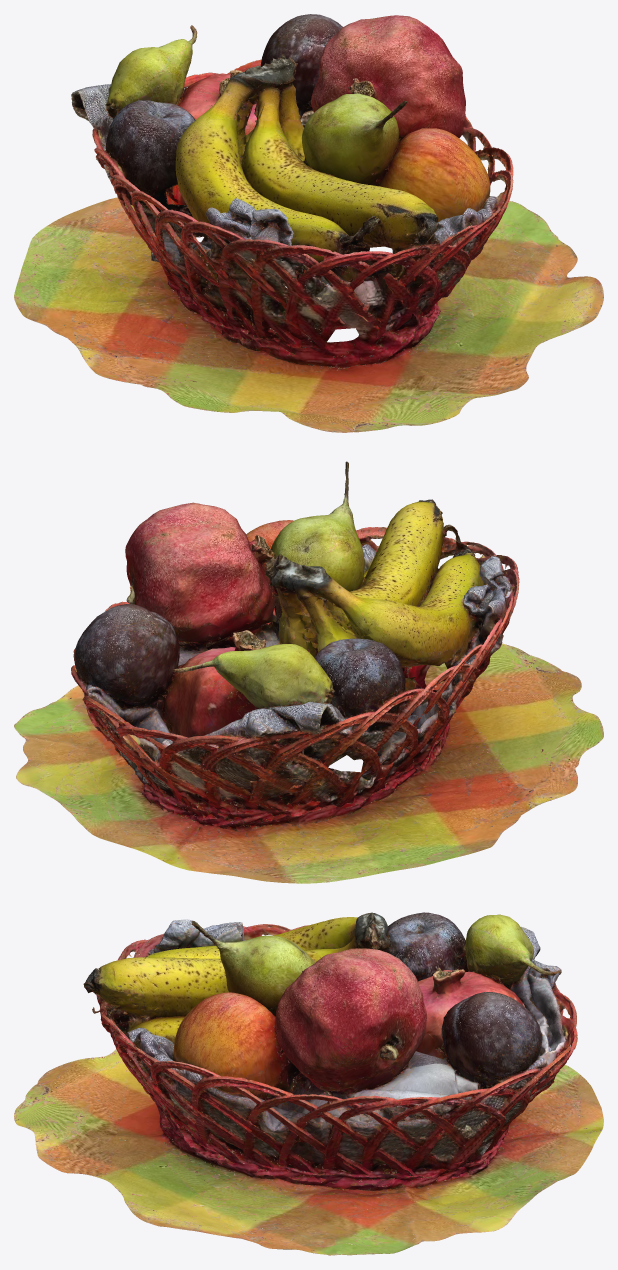
File: 静物_水果_fruit_decay_opt.glb
3 views of the same model, one above another, from view 1: azimuth 30°, elevation 25°; view 2: azimuth 150°, elevation 25°; view 3: azimuth 270°, elevation 25° (orthographic). The views are drawn at different scales.
Parts seen in each view (by area): view 1: Object_2; view 2: Object_2; view 3: Object_2.
Boxes of the visible parts, left/top/right/bottom form: Object_2: left=14, top=14, right=603, bottom=432; Object_2: left=14, top=461, right=603, bottom=883; Object_2: left=14, top=912, right=603, bottom=1255.
Size of the model in its own units: 0.6317 by 0.2989 by 0.6852.
1 material, 1 textured.
